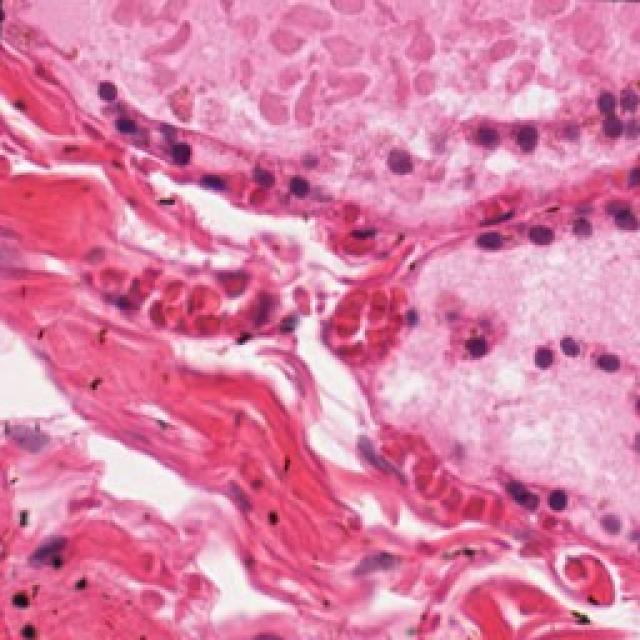normal: (150, 112, 220, 193), (537, 303, 593, 373), (500, 112, 557, 180), (467, 211, 520, 281), (462, 100, 510, 170), (553, 197, 612, 253), (600, 175, 640, 247), (579, 340, 624, 390), (530, 215, 568, 265), (527, 334, 570, 378)
